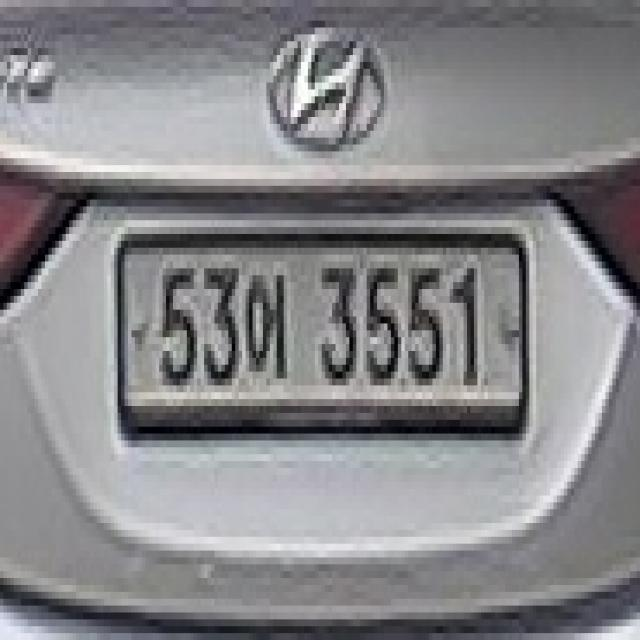1: (450, 234, 484, 392)
3: (318, 241, 367, 413), (193, 241, 246, 392)
5: (142, 261, 200, 413), (398, 241, 450, 399), (360, 248, 405, 413)
eo: (246, 241, 301, 392)
license_plate: (97, 234, 533, 440)
